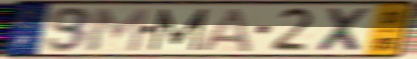2: (269, 6, 318, 55)
9: (44, 5, 96, 54)
A: (197, 6, 255, 53)
M: (85, 7, 152, 54), (147, 7, 211, 53)
X: (314, 6, 376, 53)
